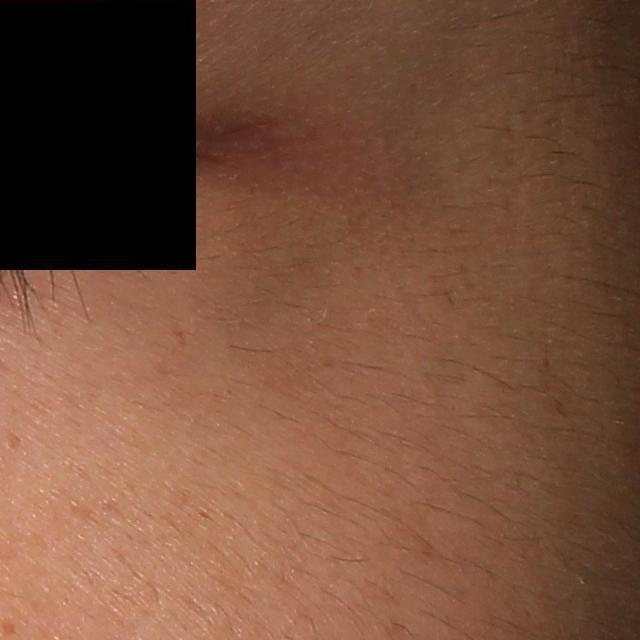melasma: (3, 428, 24, 451)
